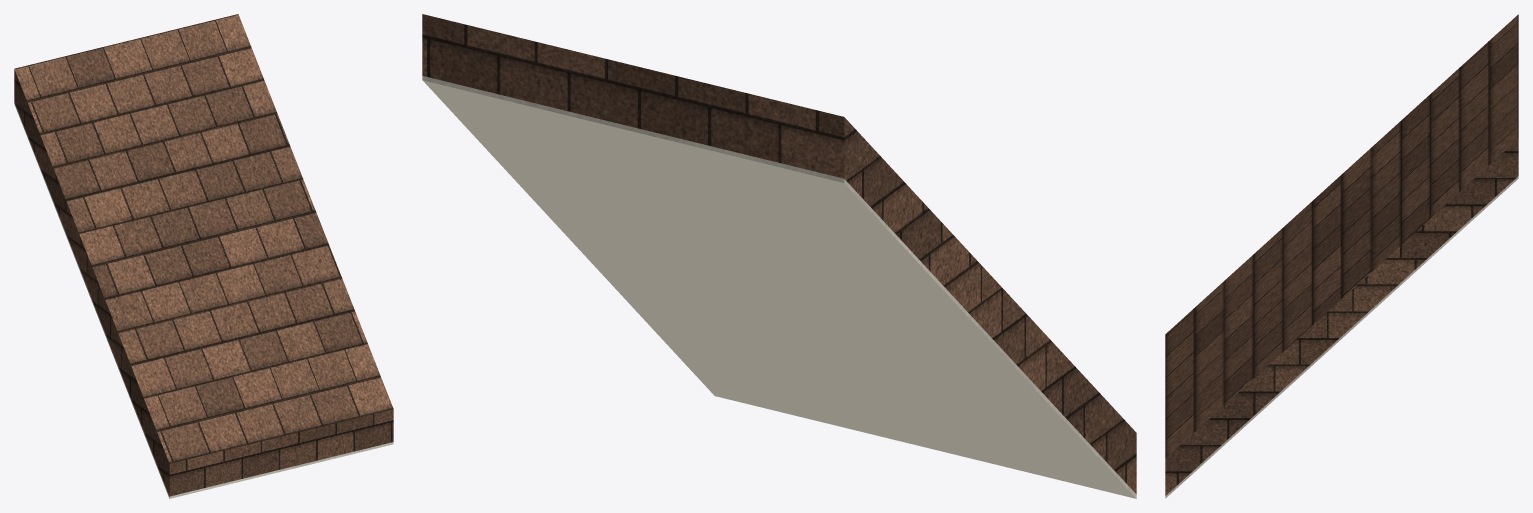
File: roof_slope.glb
3 views of the same model, side by side, from view 1: azimuth 30°, elevation 25°; view 2: azimuth 150°, elevation 25°; view 3: azimuth 270°, elevation 25° (orthographic). The views are drawn at different scales.
Parts seen in each view (by area): view 1: roof_slope_shingle, roof_slope_plaster; view 2: roof_slope_plaster, roof_slope_shingle; view 3: roof_slope_shingle, roof_slope_plaster.
Part boxes in pixels (x1,y1,x2,y2): roof_slope_shingle: (14,14,393,496); roof_slope_plaster: (14,102,393,498); roof_slope_plaster: (422,76,1136,498); roof_slope_shingle: (422,14,1136,494); roof_slope_shingle: (1165,14,1518,495); roof_slope_plaster: (1165,176,1518,498).
Bounding box in the file's own units: 2 × 2.7 × 2.4.
Materials: 2 (2 with a texture image).
